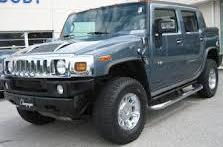front_view: (6, 59, 104, 128)
headlight: (53, 55, 90, 97)
side_glass: (149, 3, 203, 38)
